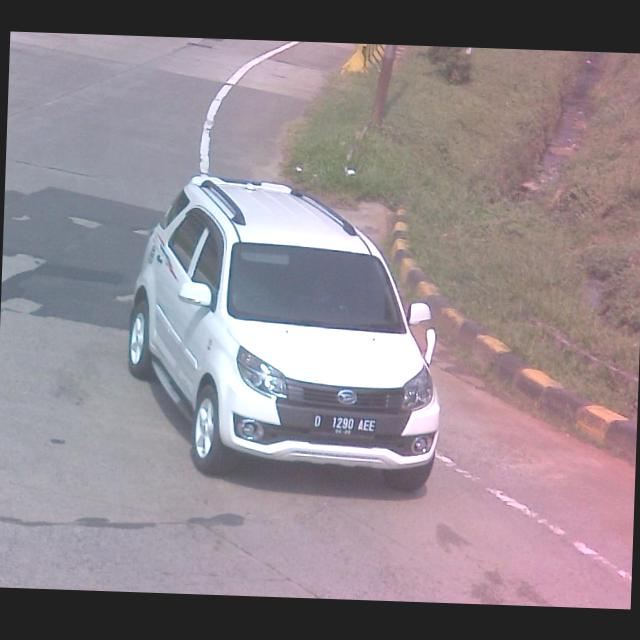plate: (308, 409, 379, 440)
